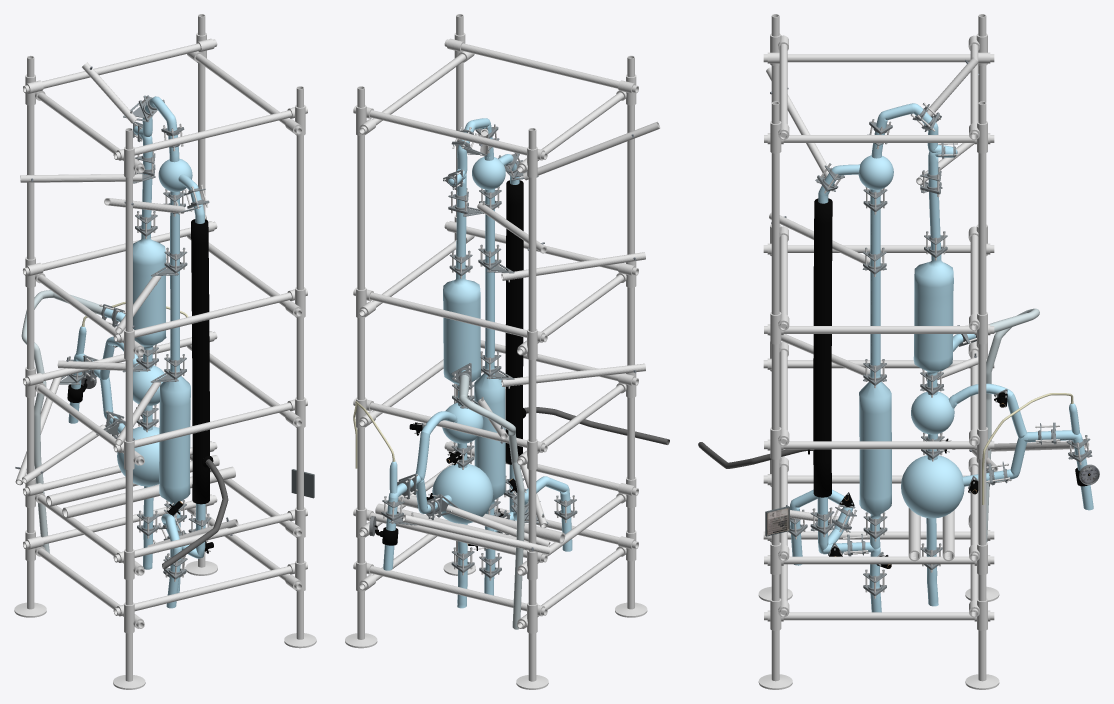
File: barrasPseudoCompletas31.fbx
3 renders of one model, left to right at view 1: azimuth 30°, elevation 25°; view 2: azimuth 150°, elevation 25°; view 3: azimuth 270°, elevation 25°, orthographic. The views are drawn at different scales.
Visible parts, largest first — view 1: Barras estructurales, Estructura interior, Encajes tubos, Salida a generador; view 2: Barras estructurales, Estructura interior, Encajes tubos, Salida a generador, Encajes válvulas; view 3: Barras estructurales, Estructura interior, Encajes tubos, Encajes válvulas, Salida a generador, Cartel marca.
Part boxes in pixels (bbox=[...]): Barras estructurales: bbox=[14, 14, 316, 689]; Estructura interior: bbox=[21, 96, 209, 608]; Encajes tubos: bbox=[59, 95, 211, 581]; Salida a generador: bbox=[162, 455, 228, 569]; Barras estructurales: bbox=[345, 14, 660, 689]; Estructura interior: bbox=[374, 118, 572, 629]; Encajes tubos: bbox=[381, 124, 577, 580]; Salida a generador: bbox=[523, 407, 669, 444]; Encajes válvulas: bbox=[409, 422, 526, 550]; Barras estructurales: bbox=[758, 14, 1089, 689]; Estructura interior: bbox=[790, 103, 1093, 612]; Encajes tubos: bbox=[787, 103, 1092, 598]; Encajes válvulas: bbox=[828, 389, 1007, 568]; Salida a generador: bbox=[698, 442, 814, 468]; Cartel marca: bbox=[765, 506, 789, 536].
Bounding box in the file's own units: 6444 × 16091 × 10108.
